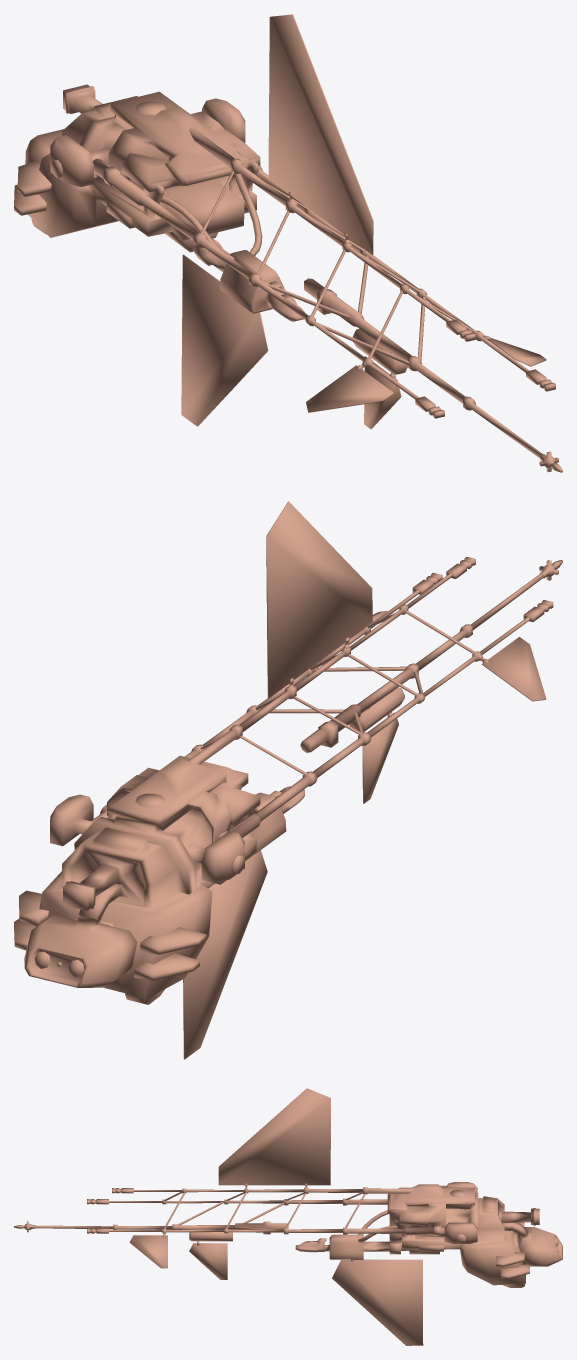
The model's file is breacher.glb.
3 views of the same model, one above another, from view 1: azimuth 30°, elevation 25°; view 2: azimuth 150°, elevation 25°; view 3: azimuth 270°, elevation 25° (orthographic). The views are drawn at different scales.
Parts seen in each view (by area): view 1: breacher; view 2: breacher; view 3: breacher.
Part boxes in pixels (x1,y1,x2,y2): breacher: (14, 14, 562, 472); breacher: (14, 501, 562, 1059); breacher: (14, 1088, 562, 1345).
Bounding box in the file's own units: 0.2725 × 0.519 × 1.
